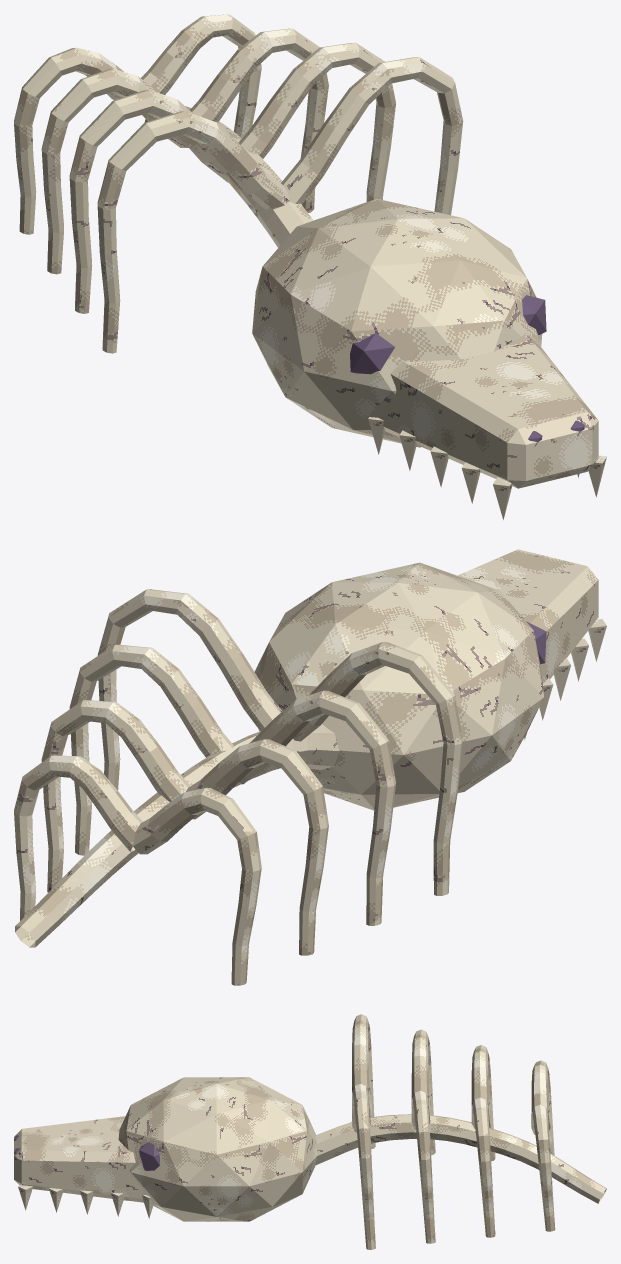
The model's file is ruins_fossil.glb.
The picture shows the model from 3 angles, top to bottom: view 1: azimuth 30°, elevation 25°; view 2: azimuth 150°, elevation 25°; view 3: azimuth 270°, elevation 25°; orthographic projection. The views are drawn at different scales.
Parts seen in each view (by area): view 1: Fossil, Holes; view 2: Fossil; view 3: Fossil, Holes.
Boxes of the visible parts, <box> form: Fossil: <box>14,14,606,519</box>; Holes: <box>350,295,584,446</box>; Fossil: <box>14,549,606,985</box>; Fossil: <box>14,1014,606,1249</box>; Holes: <box>14,1135,159,1170</box>.
Bounding box in the file's own units: 2.74 × 1.85 × 6.15.
2 materials, 1 textured.
